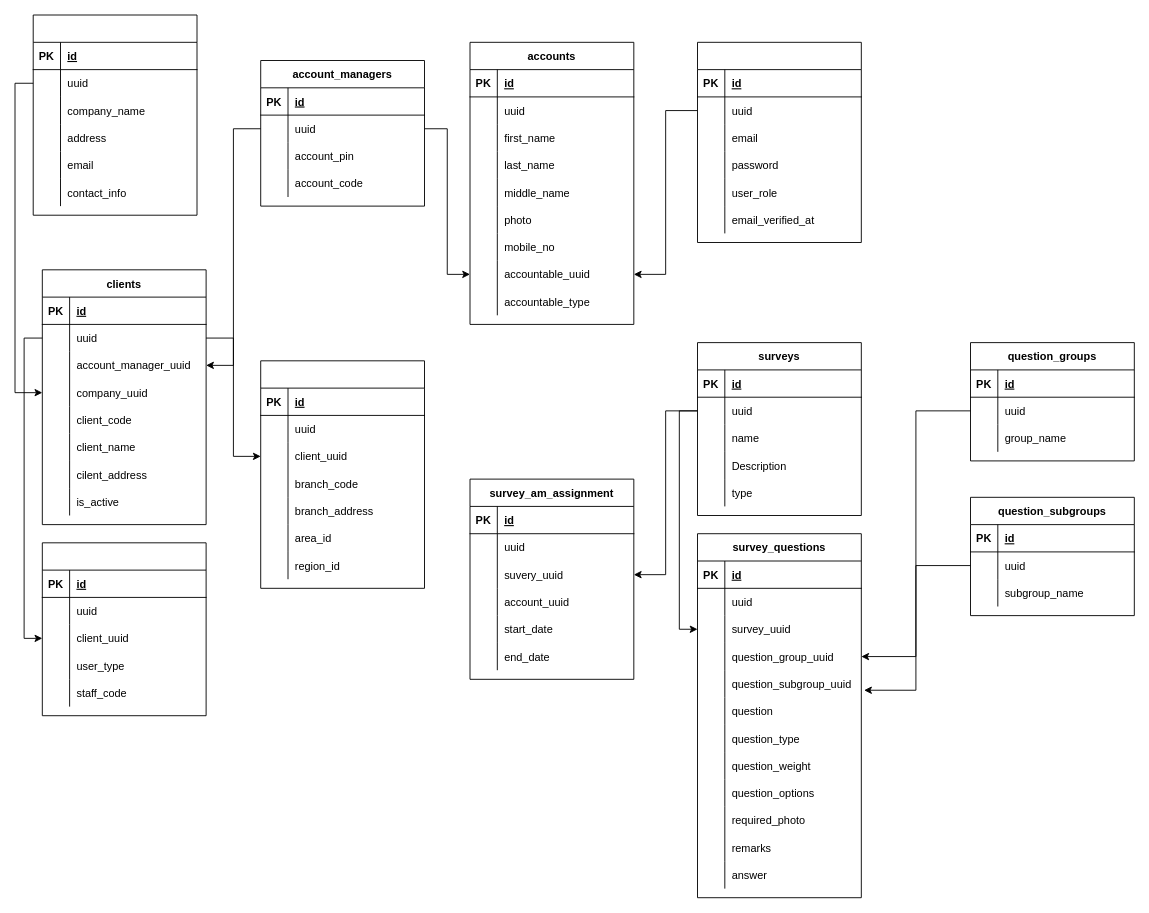
Some shapes in this 1149 by 913 pixel diagram are drawn without their labels. The shapes that lost their labels are listed below. From the top down, each one's box as (x1, y1, x2, y2) in pixels, then its label:
(32, 14, 197, 215): companies
(697, 41, 861, 243): users
(260, 360, 425, 588): branches
(41, 542, 206, 716): client_staffs
